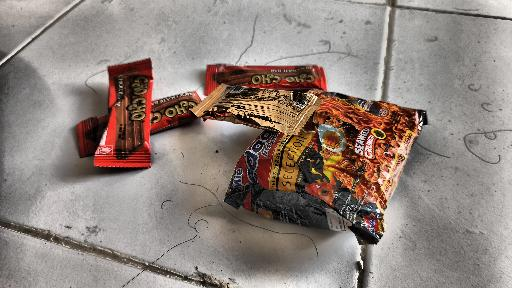chocho: (44, 64, 339, 93)
mie sedap: (276, 85, 434, 247)
